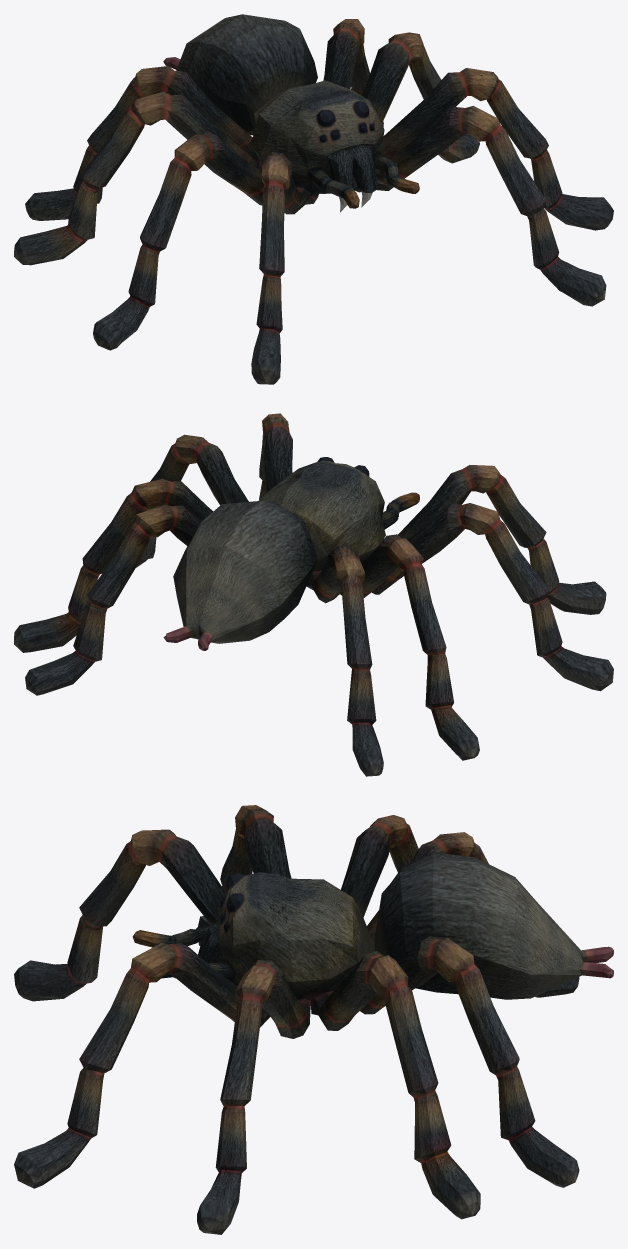
The model's file is spider.obj.
The picture shows the model from 3 angles, top to bottom: view 1: azimuth 30°, elevation 25°; view 2: azimuth 150°, elevation 25°; view 3: azimuth 270°, elevation 25°; orthographic projection. The views are drawn at different scales.
Parts seen in each view (by area): view 1: spidermesh; view 2: spidermesh; view 3: spidermesh.
Boxes of the visible parts, x1,y1,x2,y2 form: spidermesh: (14,14,613,384); spidermesh: (14,413,613,776); spidermesh: (14,805,613,1234).
Size of the model in its own units: 2 by 0.7232 by 1.7.
